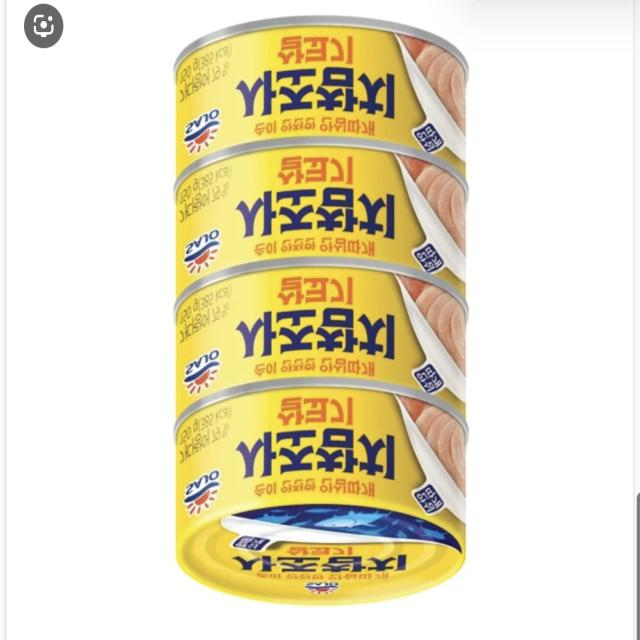can: (164, 12, 490, 610)
